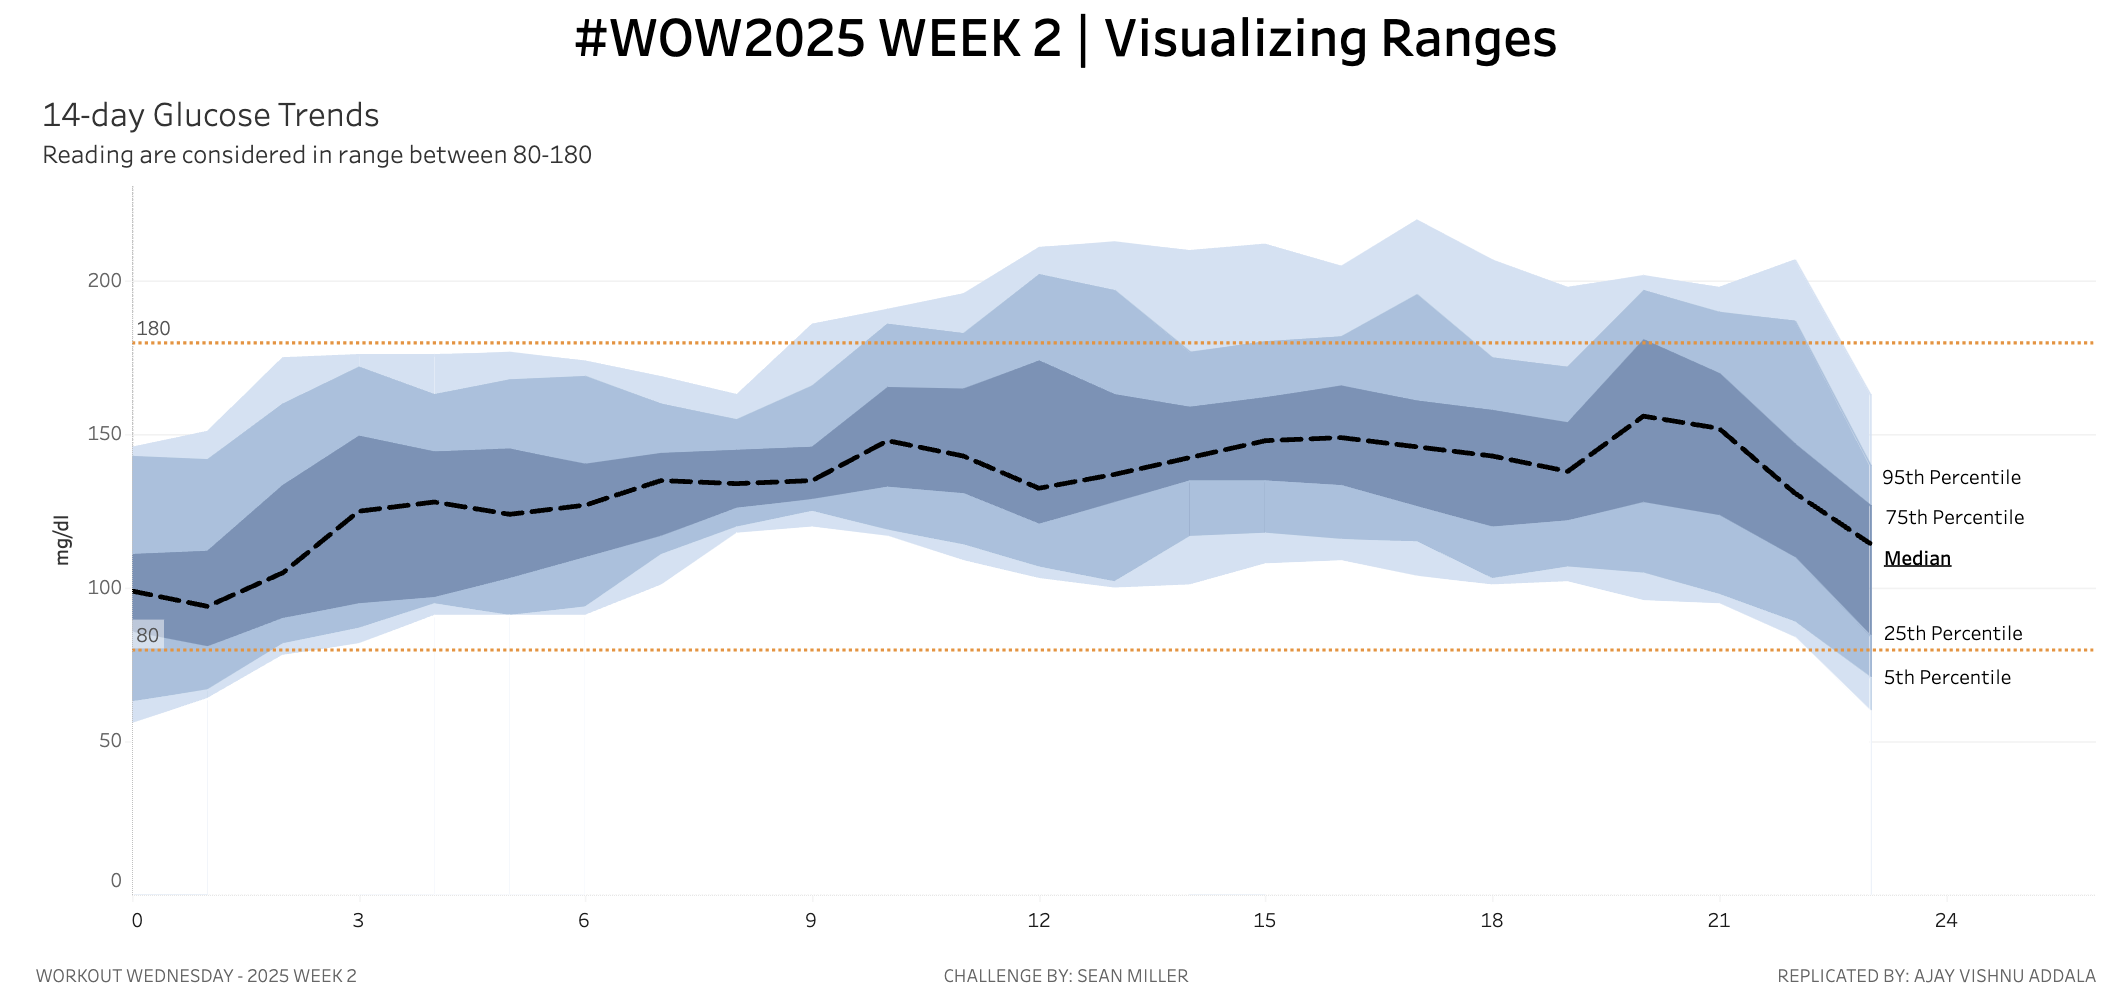

The page's visual inventory and layout, read from the dashboard file:
{"tool":"tableau","page":{"name":"WOW2025 W2","canvas":[1300,632],"ordinal":0},"visuals":[{"type":"text","box":[2,2,1296,50]},{"type":"worksheet","title":"Sheet 1","mark":"Area","rows":["Calculation_1187120748651397120"],"cols":["Device Timestamp"],"box":[2,52,1296,546]},{"type":"text","box":[2,598,370,32]},{"type":"text","box":[372,598,556,32]},{"type":"text","box":[928,598,370,32]}]}

Visuals, with their boxes on the page's 1300x632 design canvas (x1, y1, x2, y2). These are canvas units, not pixel positions in the 2128x1002 screenshot, which may show the page scaled, cropped or inside an application window:
text: detection(2, 2, 1298, 52)
"Sheet 1" worksheet (Area marks): detection(2, 52, 1298, 598)
text: detection(2, 598, 372, 630)
text: detection(372, 598, 928, 630)
text: detection(928, 598, 1298, 630)
